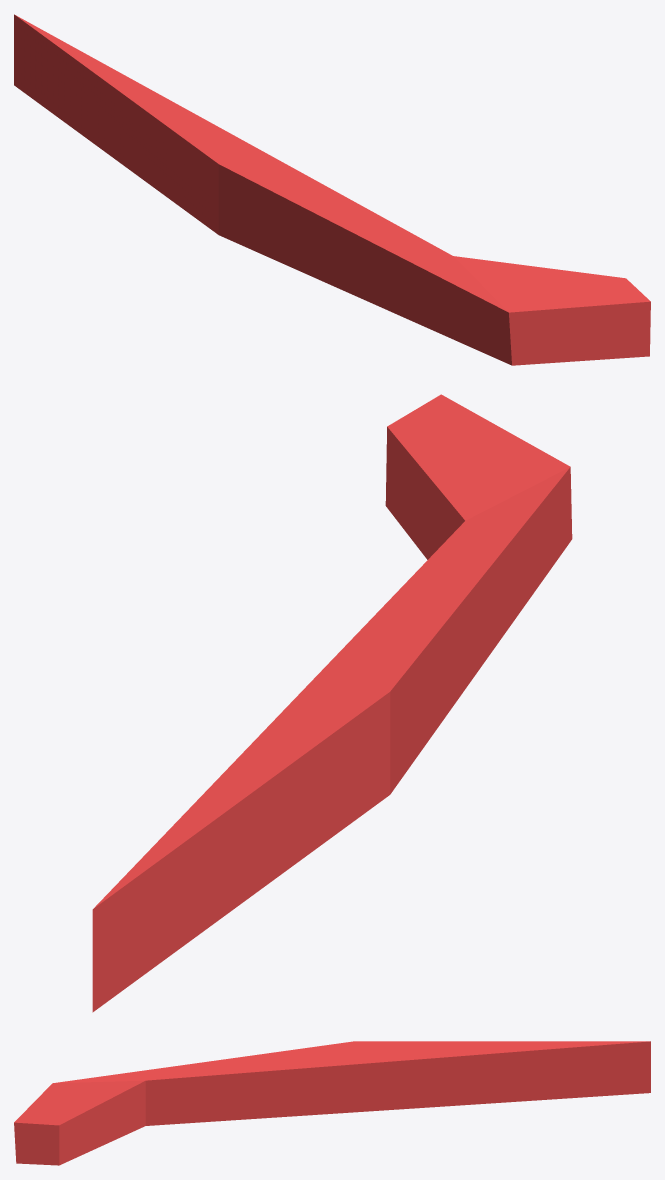
File: thirdpartduck.glb
The picture shows the model from 3 angles, top to bottom: view 1: azimuth 30°, elevation 25°; view 2: azimuth 150°, elevation 25°; view 3: azimuth 270°, elevation 25°; orthographic projection. The views are drawn at different scales.
Parts seen in each view (by area): view 1: Cube; view 2: Cube; view 3: Cube.
Part boxes in pixels (x1,y1,x2,y2): Cube: (14, 14, 650, 365); Cube: (92, 394, 572, 1012); Cube: (14, 1041, 650, 1165).
Size of the model in its own units: 0.9543 by 0.3262 by 3.53.
